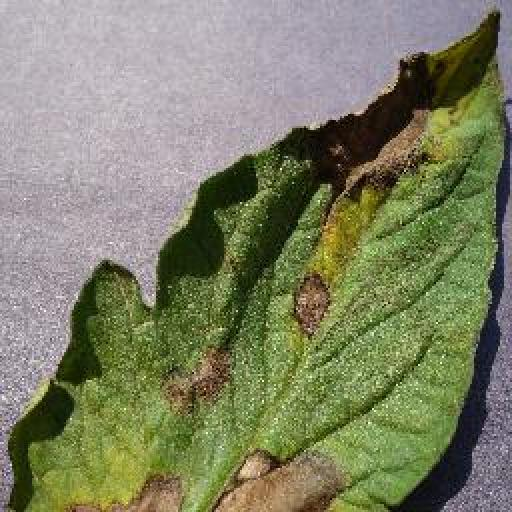Late Blight: (0, 9, 512, 512)
